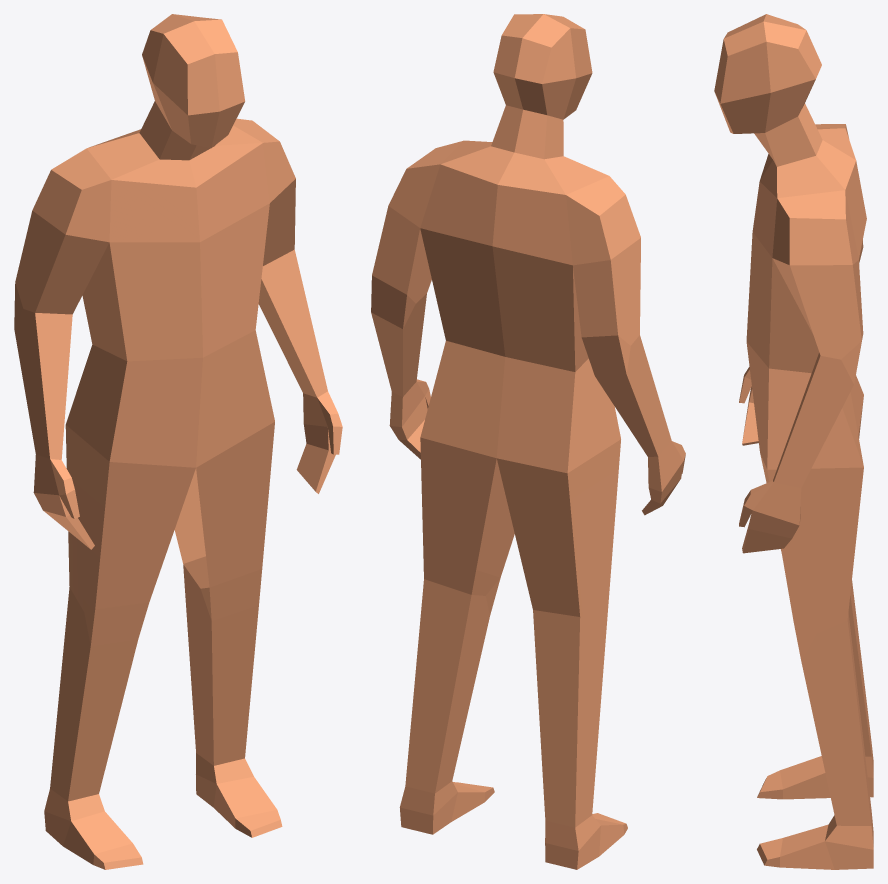
Rendered from GGJ2025_Humano_Naranja.fbx.
The picture shows the model from 3 angles, left to right: view 1: azimuth 30°, elevation 25°; view 2: azimuth 150°, elevation 25°; view 3: azimuth 270°, elevation 25°; orthographic projection. The views are drawn at different scales.
Visible parts, largest first — view 1: Human.001; view 2: Human.001; view 3: Human.001.
Part boxes in pixels (x1,y1,x2,y2): Human.001: (14, 14, 342, 869); Human.001: (371, 14, 685, 869); Human.001: (714, 14, 873, 869).
Size of the model in its own units: 101 by 282 by 50.76.
